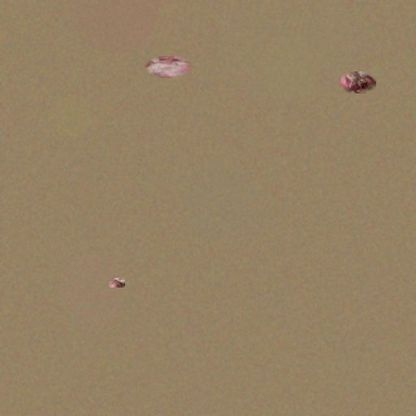rotten: (145, 56, 193, 78), (340, 72, 376, 93)
sprouted: (109, 278, 125, 288)
